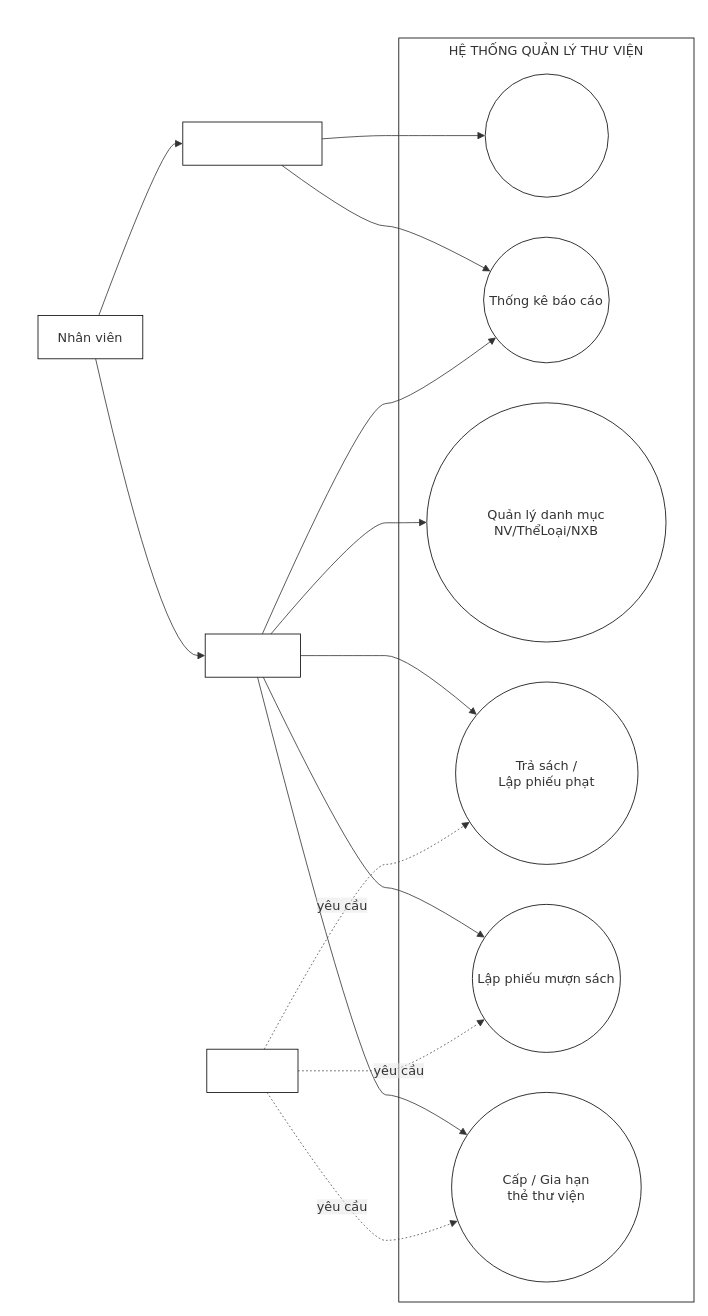
Some shapes in this 708 by 1316 pixel diagram are drawn without their labels. Each missing label, with the centre of its shape:
"NV quản lý sách" goes at pixel 252 143.
"Quản lý đầu sách" goes at pixel 546 135.
"Thủ thư" goes at pixel 252 655.
"Độc giả" goes at pixel 252 1070.
